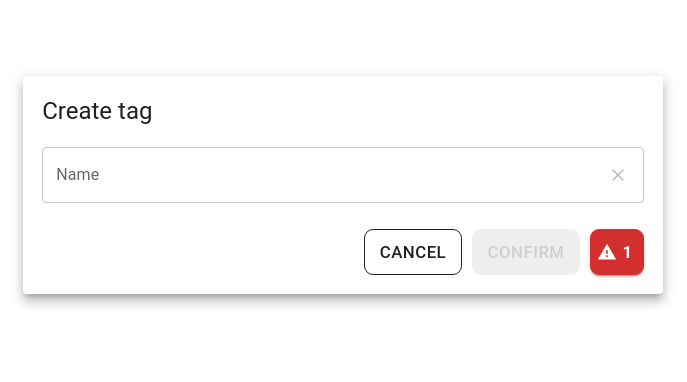
Test: FormScreen › shows server rejection messages in the form and keeps it open
Type "Heavy" into the field labelled "Name" at (318, 175), box 42,147 -> 595,203
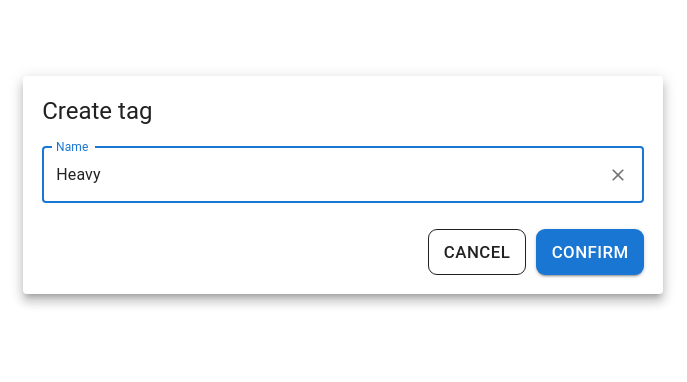
Click the button "Confirm" at (590, 252), box 536,229 -> 644,275
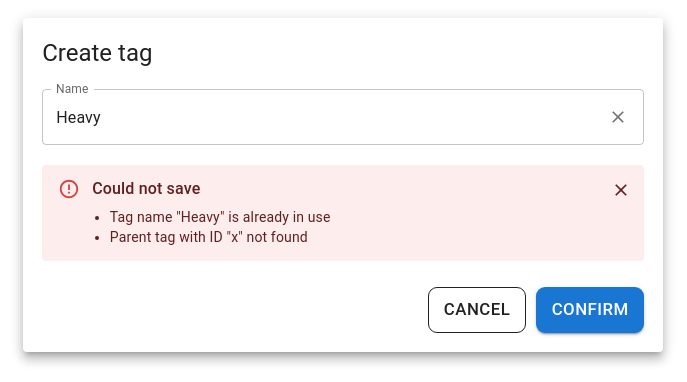
Expected: the text "Could not save" is shown, 92,179 -> 200,198
Expected: the list item "Tag name \"Heavy\" is already in use" is shown, 110,207 -> 330,227
Expected: the list item "Parent tag with ID \"x\" not found" is shown, 110,227 -> 330,247
Click the button named "close" at (621, 190), box 606,175 -> 636,205
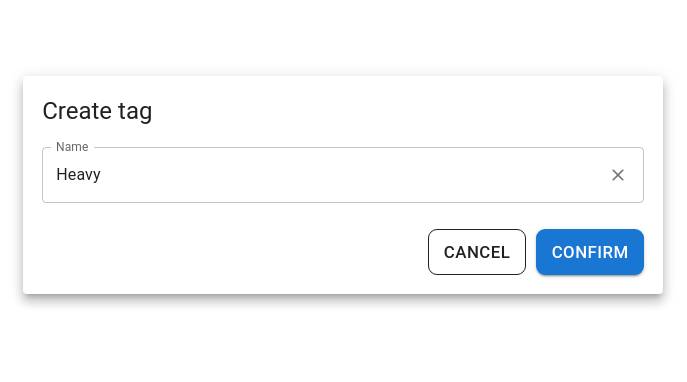
Expected: the text "Could not save" is gone
